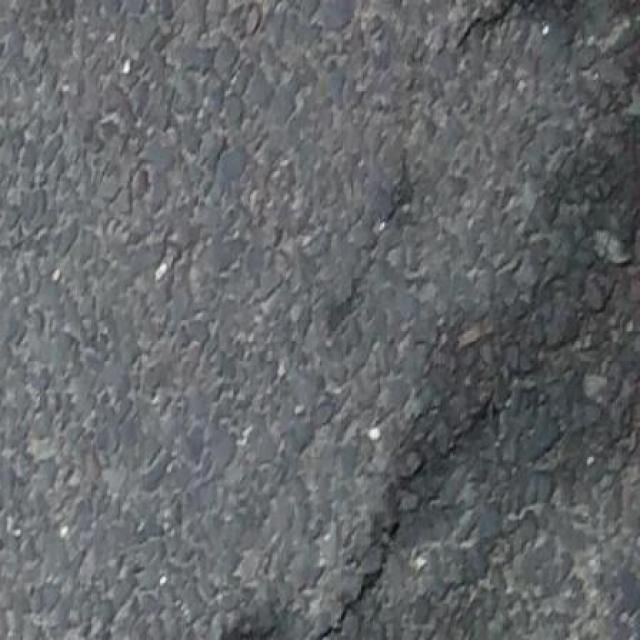diagonal crack: (298, 322, 602, 640)
